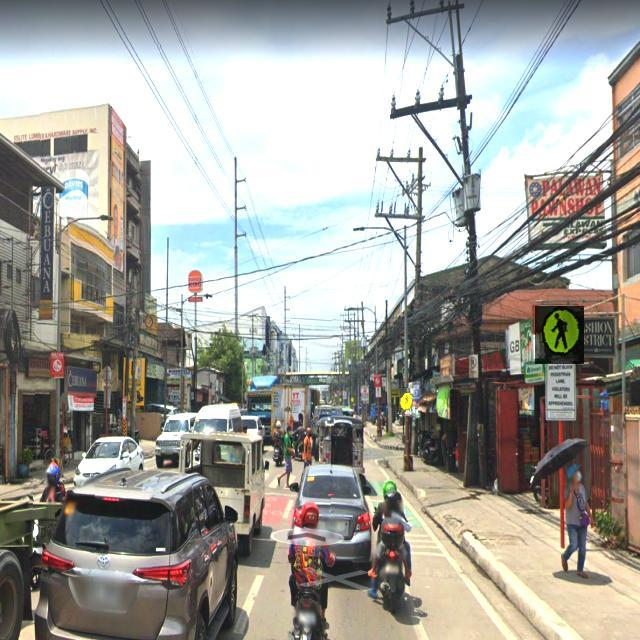bike lane: (399, 388, 415, 416)
pedestrian crossing: (535, 306, 584, 364)
